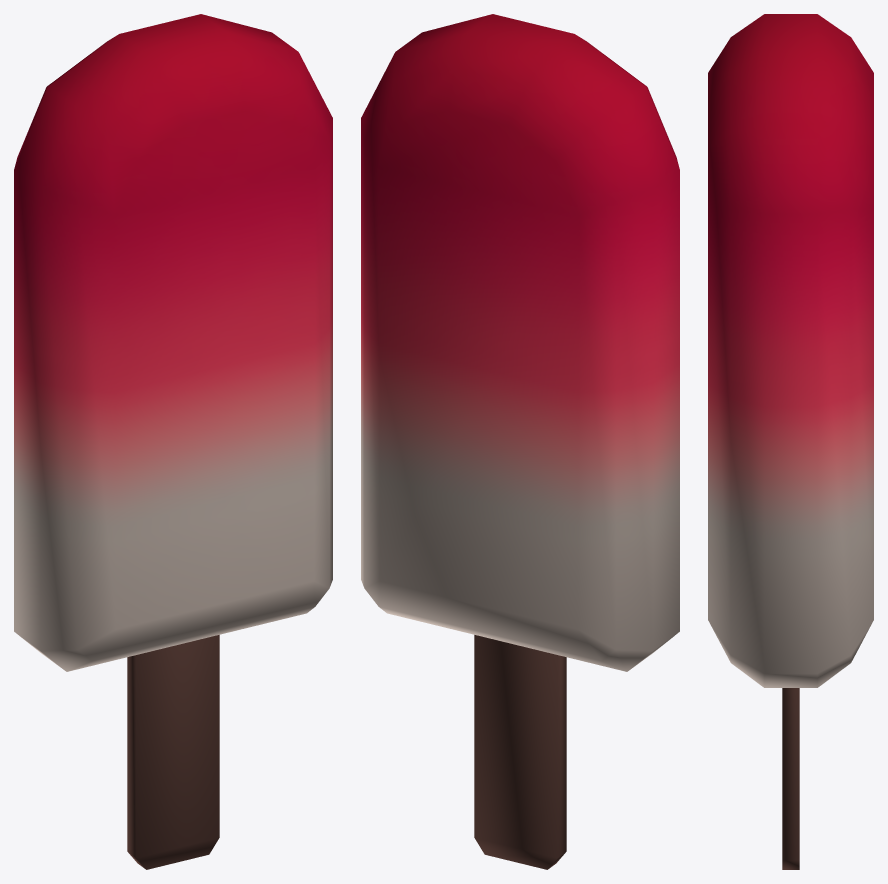
Rendered from IceCream.fbx.
3 renders of one model, left to right at view 1: azimuth 30°, elevation 25°; view 2: azimuth 150°, elevation 25°; view 3: azimuth 270°, elevation 25°, orthographic.
Parts seen in each view (by area): view 1: IceCream; view 2: IceCream; view 3: IceCream.
Boxes of the visible parts, x1,y1,x2,y2 form: IceCream: [14, 14, 332, 869]; IceCream: [361, 14, 679, 869]; IceCream: [708, 14, 873, 869].
Bounding box in the file's own units: 4.85 × 13.1 × 2.4.
